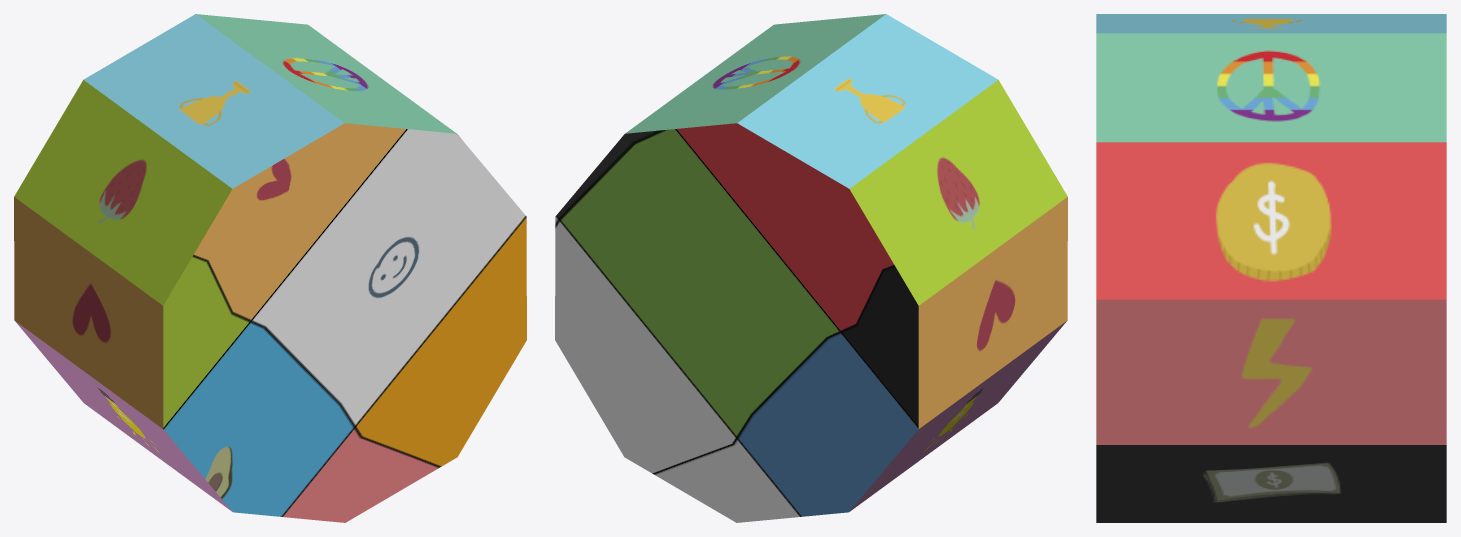
File: Wheel_01.gltf
The picture shows the model from 3 angles, left to right: view 1: azimuth 30°, elevation 25°; view 2: azimuth 150°, elevation 25°; view 3: azimuth 270°, elevation 25°; orthographic projection. The views are drawn at different scales.
Visible parts, largest first — view 1: Cylinder; view 2: Cylinder; view 3: Cylinder.
Boxes of the visible parts, left/top/right/bottom form: Cylinder: left=14, top=14, right=526, bottom=522; Cylinder: left=555, top=14, right=1067, bottom=522; Cylinder: left=1096, top=14, right=1446, bottom=522.
Bounding box in the file's own units: 0.8979 × 0.9437 × 0.638.
1 material, 1 textured.
